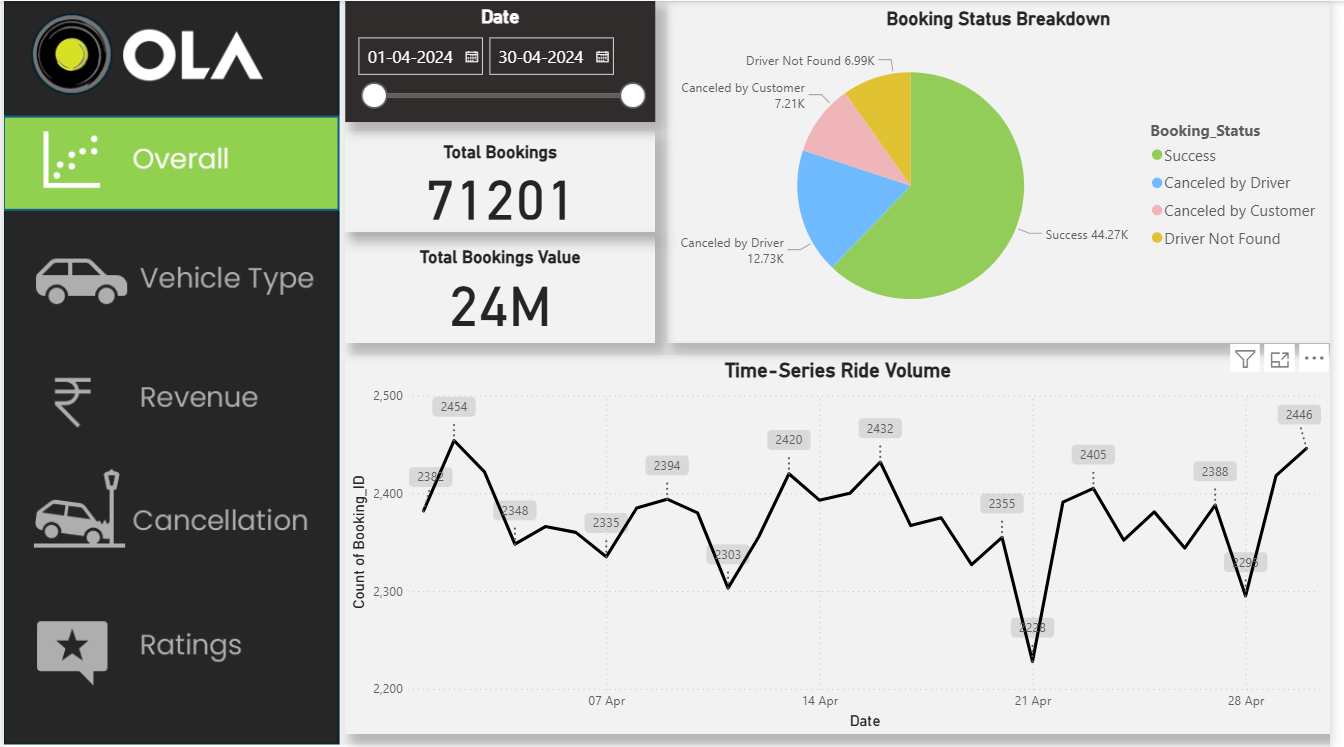

The page's visual inventory and layout, read from the dashboard file:
{"tool":"powerbi","page":{"name":"Overall","canvas":[1280,720],"ordinal":0},"visuals":[{"type":"actionButton","box":[0,222,320.9,92.9],"z":0},{"type":"actionButton","box":[0,341.4,320.9,92.9],"z":1000},{"type":"actionButton","box":[0,447.6,320.9,92.9],"z":2000},{"type":"actionButton","box":[0,577.9,320.9,92.9],"z":3000},{"type":"lineChart","title":"Time-Series Ride Volume","fields":{"Y":["CountNonNull(Bookings.Booking_ID)"],"Category":["Bookings.Date"]},"box":[329.3,341.7,950.9,366.4],"z":4000},{"type":"pieChart","title":"Booking Status Breakdown","fields":{"Category":["Bookings.Booking_Status"],"Y":["CountNonNull(Bookings.Booking_Status)"]},"box":[639.5,0,640.8,329.3],"z":5000},{"type":"card","title":"Total Bookings Value","fields":{"Values":["Sum(Bookings.Booking_Value)"]},"box":[329.3,226.4,299.1,102.9],"z":6000},{"type":"card","title":"Total Bookings","fields":{"Values":["Count(Bookings.Booking_ID)"]},"box":[329.3,124.9,299.1,97.4],"z":7000},{"type":"slicer","title":"Date","fields":{"Values":["Bookings.Date"]},"box":[329.3,0,299.1,116.6],"z":8000}]}

Visuals, with their boxes in screenshot pixels (x1, y1, x2, y2), scaled from the page's 1280x720 canvas onto the 1344x747 screenshot:
actionButton: (0, 230, 337, 327)
actionButton: (0, 354, 337, 451)
actionButton: (0, 464, 337, 561)
actionButton: (0, 600, 337, 696)
"Time-Series Ride Volume" lineChart: (346, 355, 1343, 735)
"Booking Status Breakdown" pieChart: (671, 0, 1343, 342)
"Total Bookings Value" card: (346, 235, 660, 342)
"Total Bookings" card: (346, 130, 660, 231)
"Date" slicer: (346, 0, 660, 121)
